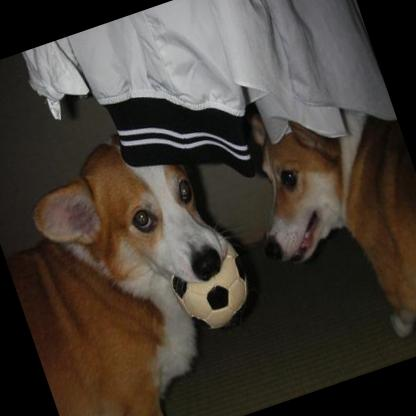Pembroke: (0, 107, 282, 416), (221, 72, 416, 381)
